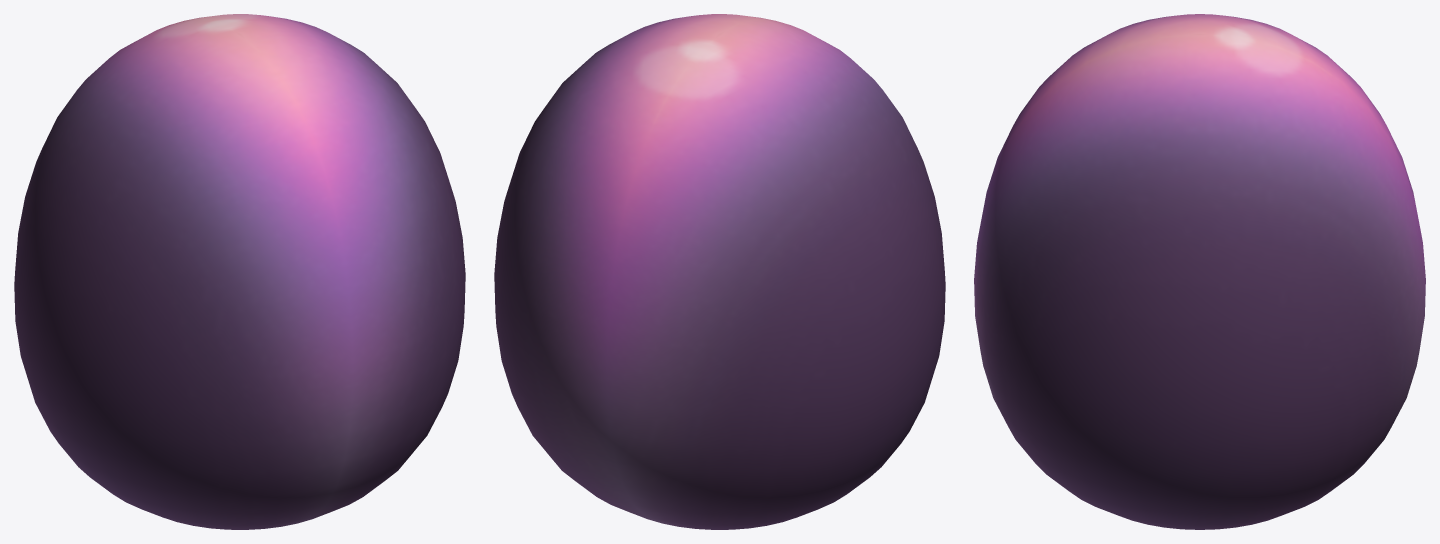
The model's file is scenes_level_front01.FBX.
3 renders of one model, left to right at view 1: azimuth 30°, elevation 25°; view 2: azimuth 150°, elevation 25°; view 3: azimuth 270°, elevation 25°, orthographic.
Visible parts, largest first — view 1: scenes_level_front01; view 2: scenes_level_front01; view 3: scenes_level_front01.
Boxes of the visible parts, x1=… form: scenes_level_front01: x1=14, y1=14, x2=465, y2=529; scenes_level_front01: x1=494, y1=14, x2=945, y2=529; scenes_level_front01: x1=974, y1=14, x2=1425, y2=529.
Size of the model in its own units: 553 by 635 by 553.
